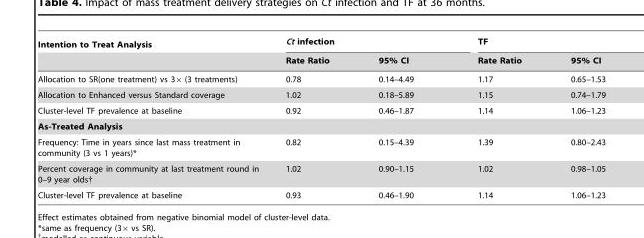table: (37, 36, 605, 199)
table column: (37, 36, 271, 199), (444, 36, 545, 199), (353, 36, 444, 199), (271, 36, 353, 199), (545, 36, 605, 199)
table column header: (37, 36, 605, 69)
table projected row header: (37, 118, 605, 134)
table row: (37, 160, 605, 187), (37, 134, 605, 160), (37, 69, 605, 87), (37, 52, 605, 69), (37, 36, 605, 52), (37, 102, 605, 118), (37, 118, 605, 134), (37, 87, 605, 102), (37, 187, 605, 199)
table spanning cell: (37, 36, 271, 69), (271, 36, 444, 52), (444, 36, 605, 52)
